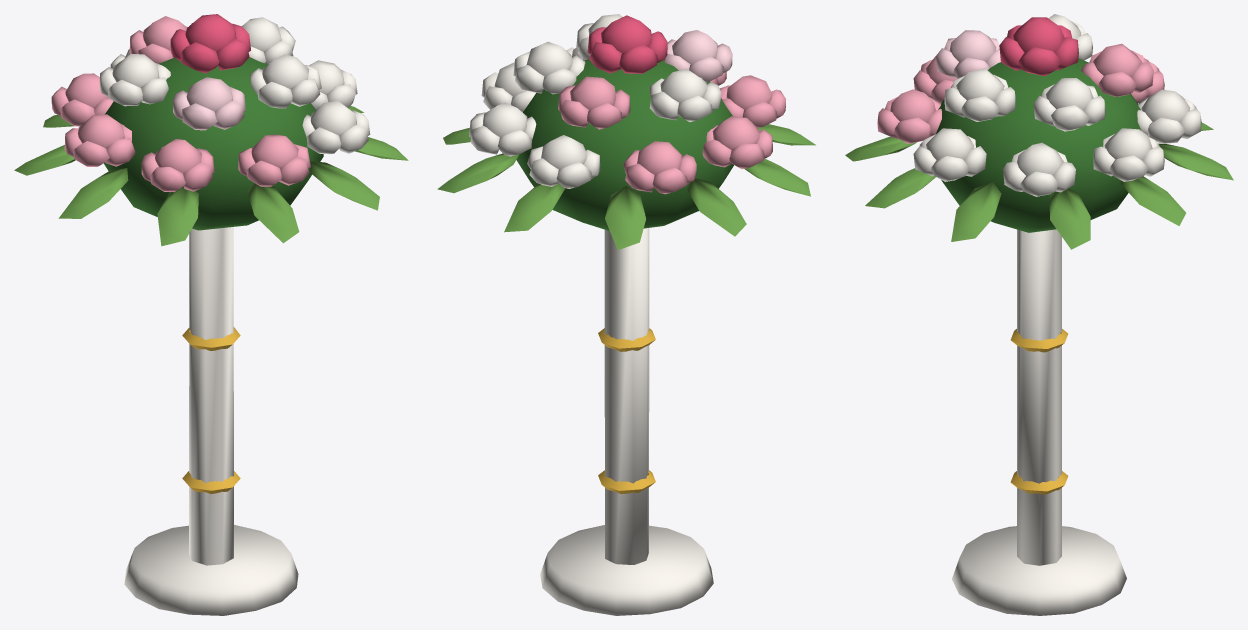
File: vaso_pedestal.glb
3 renders of one model, left to right at view 1: azimuth 30°, elevation 25°; view 2: azimuth 150°, elevation 25°; view 3: azimuth 270°, elevation 25°, orthographic.
Visible parts, largest first — view 1: Vaso_Pedestal; view 2: Vaso_Pedestal; view 3: Vaso_Pedestal.
Part boxes in pixels (x1,y1,x2,y2): Vaso_Pedestal: (14, 14, 408, 615); Vaso_Pedestal: (437, 14, 815, 615); Vaso_Pedestal: (845, 14, 1233, 615).
Size of the model in its own units: 0.8659 by 1.38 by 0.8673.
